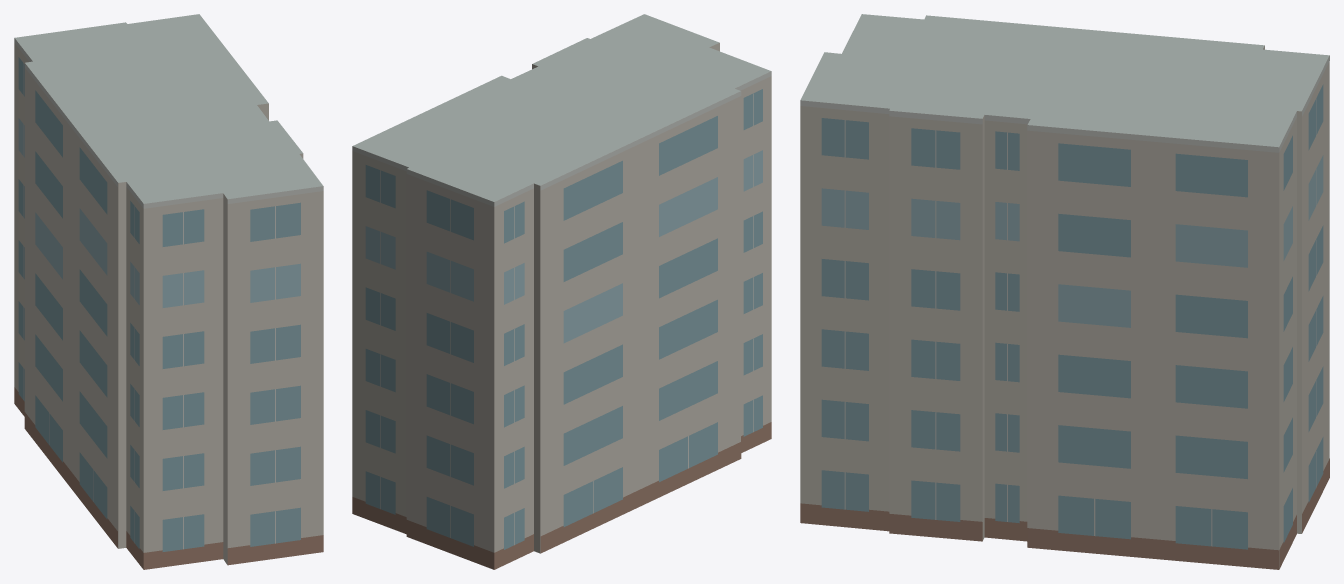
File: survey-upis-32947285.glb
3 renders of one model, left to right at view 1: azimuth 30°, elevation 25°; view 2: azimuth 150°, elevation 25°; view 3: azimuth 270°, elevation 25°, orthographic. The views are drawn at different scales.
Visible parts, largest first — view 1: survey-upis-32947285.tmp; view 2: survey-upis-32947285.tmp; view 3: survey-upis-32947285.tmp.
Part boxes in pixels (box(x1,y1,x2,y2)): survey-upis-32947285.tmp: box(14, 14, 323, 569); survey-upis-32947285.tmp: box(352, 14, 771, 569); survey-upis-32947285.tmp: box(800, 14, 1329, 569).
Bounding box in the file's own units: 12.41 × 18.35 × 20.84.
